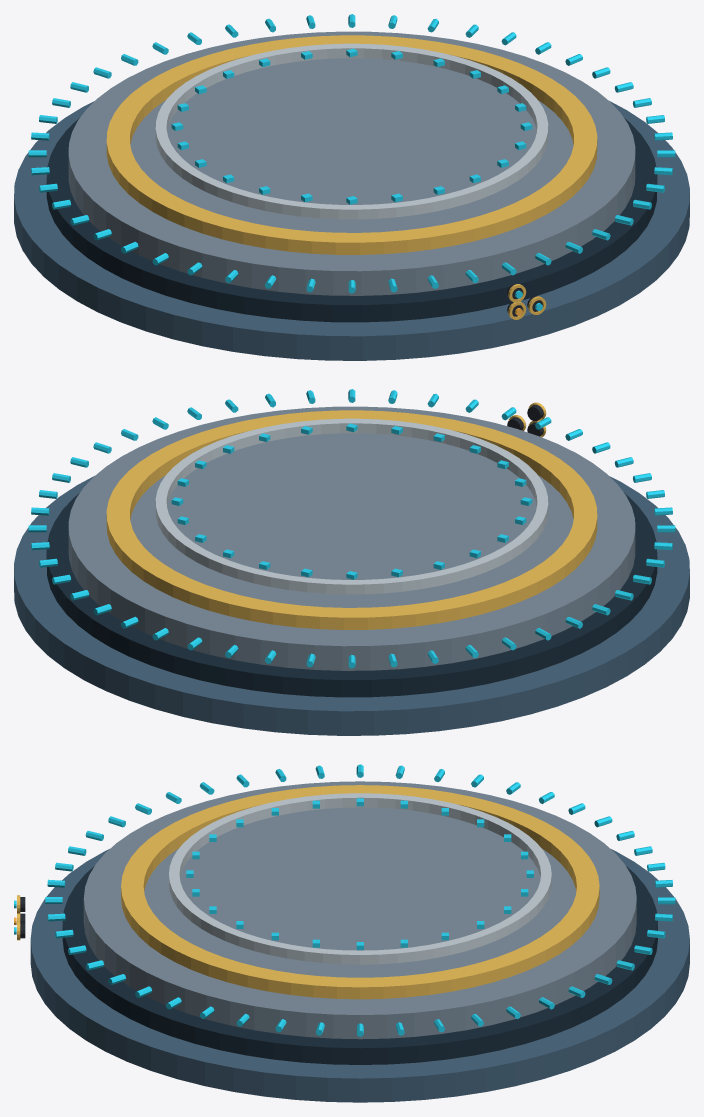
File: 04_L82_RotatingEUTTurntable.fbx
The picture shows the model from 3 angles, top to bottom: view 1: azimuth 30°, elevation 25°; view 2: azimuth 150°, elevation 25°; view 3: azimuth 270°, elevation 25°; orthographic projection. The views are drawn at different scales.
Parts seen in each view (by area): view 1: RotatingEUTTurntable, RotatingEUTTurntable_Part_0052; view 2: RotatingEUTTurntable, RotatingEUTTurntable_Part_0052; view 3: RotatingEUTTurntable, RotatingEUTTurntable_Part_0052.
Part boxes in pixels (x1=…): RotatingEUTTurntable: x1=14, y1=14, x2=689, y2=360; RotatingEUTTurntable_Part_0052: x1=155, y1=43, x2=548, y2=219; RotatingEUTTurntable: x1=14, y1=389, x2=689, y2=735; RotatingEUTTurntable_Part_0052: x1=155, y1=418, x2=548, y2=594; RotatingEUTTurntable: x1=14, y1=764, x2=689, y2=1102; RotatingEUTTurntable_Part_0052: x1=169, y1=793, x2=551, y2=964.
Size of the model in its own units: 496 by 75.75 by 508.
